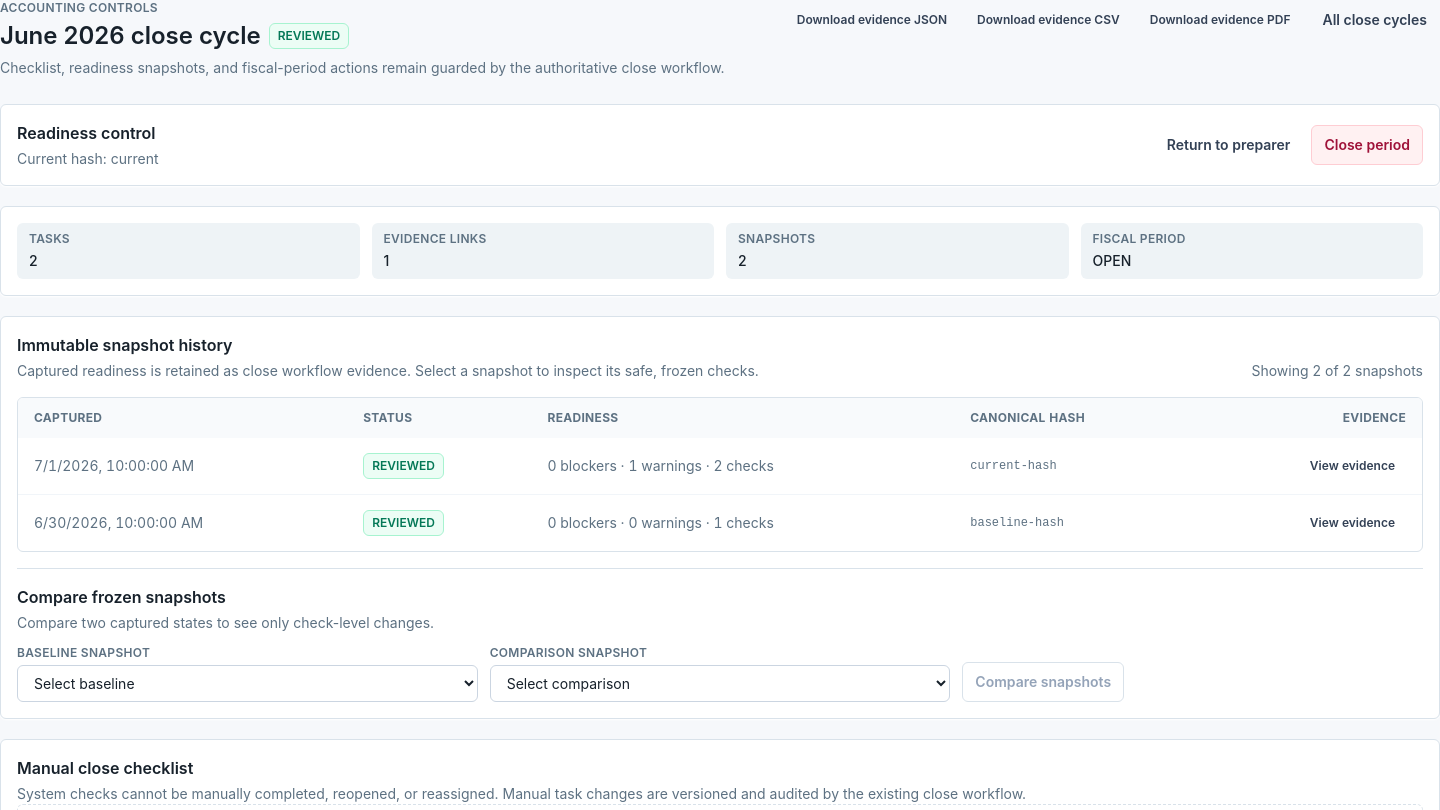
Test case: accountant close cycle detail › compares two frozen snapshots and shows only the changed safe checks
expect the heading "Compare frozen snapshots" is shown: met, box [17, 587, 226, 607]
Select "REVIEWED · 2026-06-30T10:00:00.000Z" in the dropdown labelled "Baseline snapshot". click: (247, 684)
box: [17, 665, 478, 702]
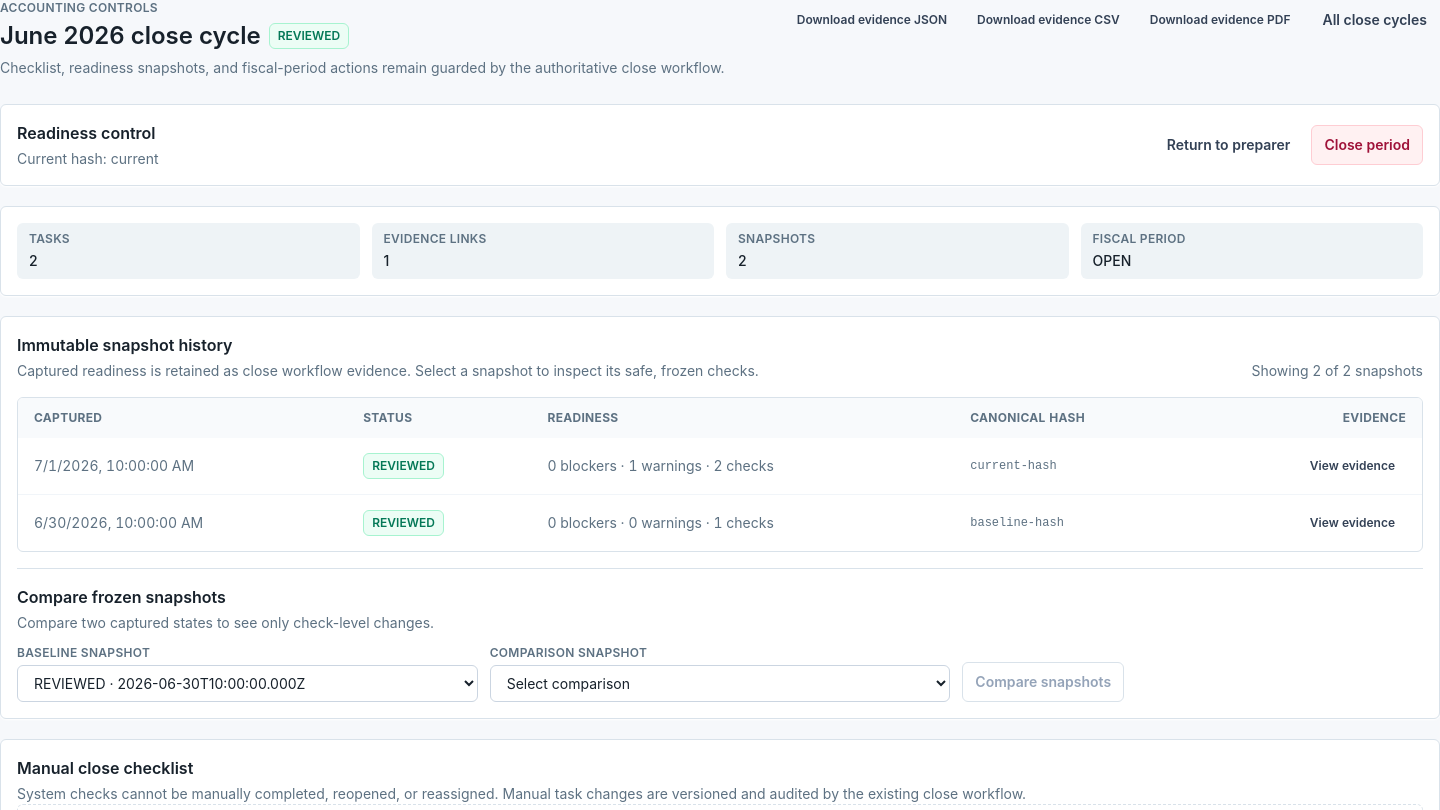
Select "REVIEWED · 2026-07-01T10:00:00.000Z" in the dropdown labelled "Comparison snapshot". click: (720, 684)
box: [490, 665, 950, 702]
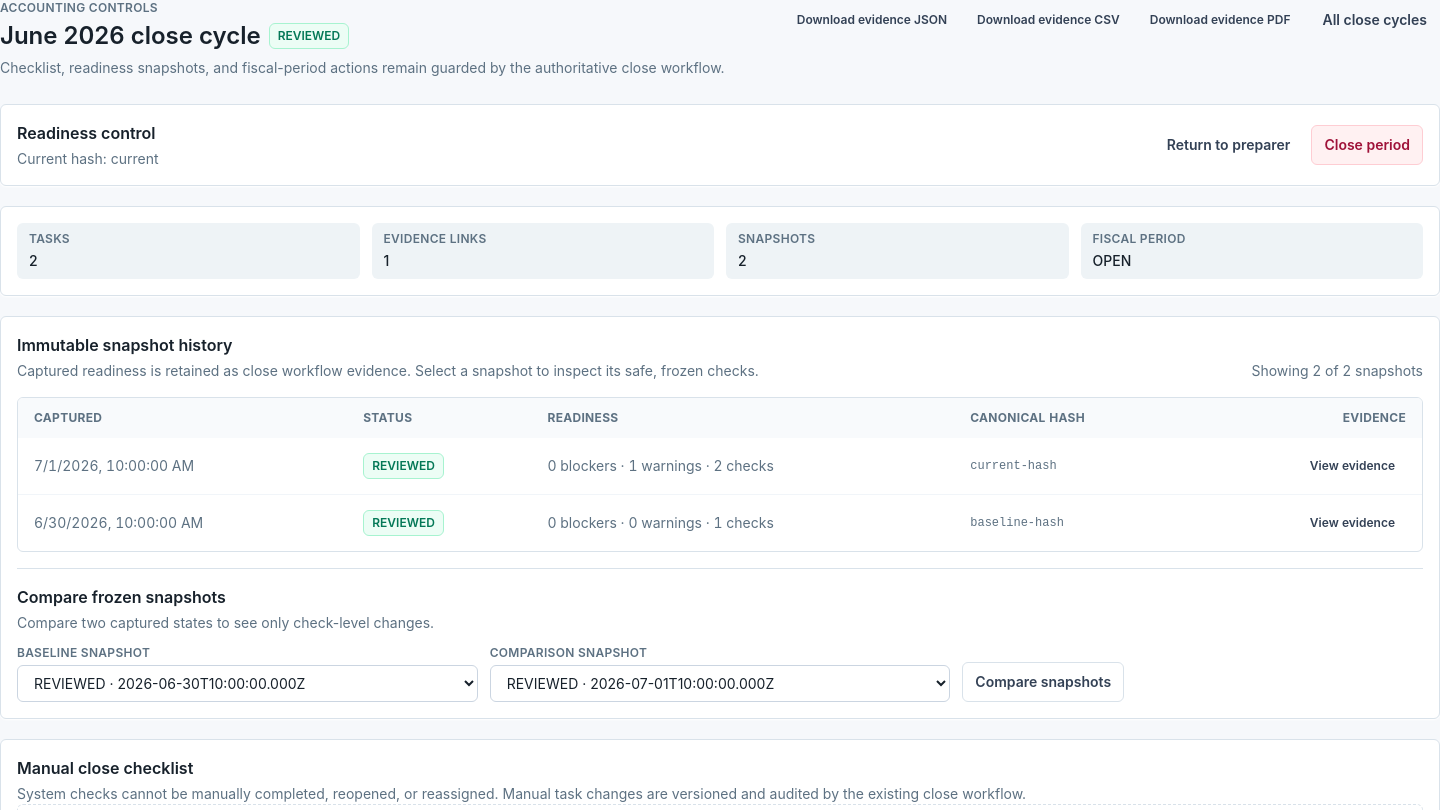
Click the button "Compare snapshots". click: (1043, 682)
box: [962, 662, 1124, 702]
(page scrolled)
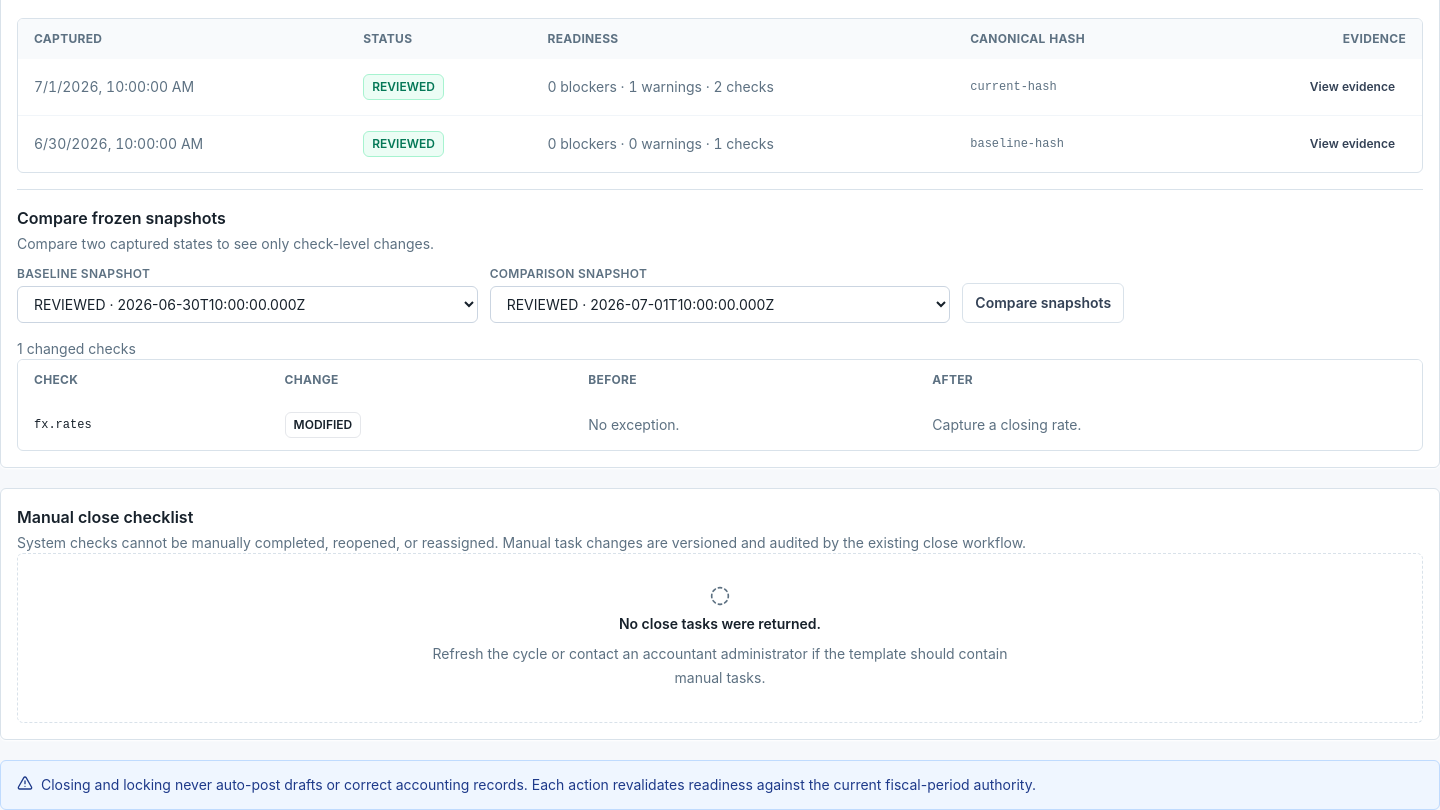
expect the text "Capture a closing rate." is shown: met, box [916, 400, 1422, 450]
